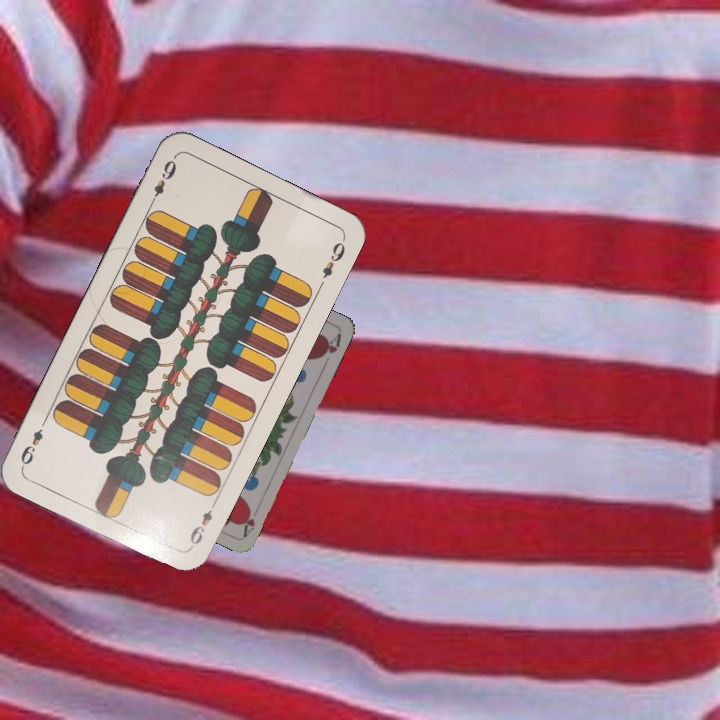E9: (146, 153, 179, 208), (185, 505, 215, 551)
HA: (238, 504, 258, 539)
